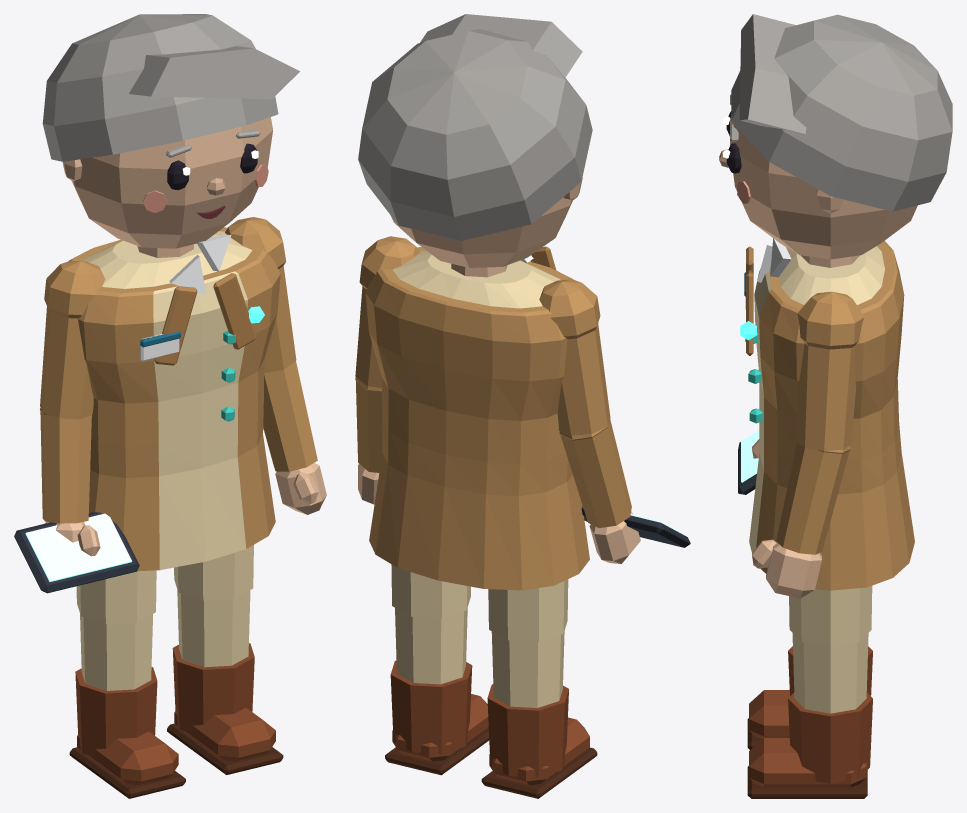
File: man_dun.glb
The picture shows the model from 3 angles, left to right: view 1: azimuth 30°, elevation 25°; view 2: azimuth 150°, elevation 25°; view 3: azimuth 270°, elevation 25°; orthographic projection.
Parts seen in each view (by area): view 1: mantel, haare, kopf, arm_r, schuh_r, schuh_l, bein_r, bein_l, arm_l, gegenstand_terminal, torso, revers (+5 smaller); view 2: mantel, haare, arm_r, bein_r, schuh_r, schuh_l, bein_l, arm_l, torso, kopf, hand_r, gegenstand_terminal (+1 smaller); view 3: haare, mantel, arm_l, kopf, schuh_l, bein_l, torso, hand_l, schuh_r, gegenstand_terminal, gesicht, kragen (+2 smaller).
Part boxes in pixels (x1,y1,x2,y2): mantel: [68, 227, 280, 571]; haare: [42, 14, 299, 161]; kopf: [62, 117, 272, 248]; arm_r: [40, 261, 105, 523]; schuh_r: [69, 667, 185, 798]; schuh_l: [167, 643, 283, 774]; bein_r: [76, 570, 156, 690]; bein_l: [174, 545, 253, 667]; arm_l: [225, 217, 317, 471]; gegenstand_terminal: [14, 512, 139, 593]; torso: [83, 231, 252, 288]; revers: [154, 273, 256, 365]; mantel: [365, 247, 589, 590]; haare: [358, 14, 592, 240]; arm_r: [539, 279, 631, 527]; bein_r: [488, 579, 568, 707]; schuh_r: [481, 684, 597, 798]; schuh_l: [385, 660, 489, 775]; bein_l: [391, 564, 470, 684]; arm_l: [355, 236, 420, 472]; torso: [392, 250, 560, 308]; kopf: [390, 177, 582, 267]; hand_r: [589, 511, 640, 563]; gegenstand_terminal: [581, 505, 690, 547]; haare: [731, 14, 952, 211]; mantel: [749, 240, 914, 590]; arm_l: [776, 291, 864, 554]; kopf: [730, 114, 917, 259]; schuh_l: [747, 692, 872, 798]; bein_l: [789, 586, 872, 713]; torso: [779, 246, 884, 304]; hand_l: [752, 539, 821, 598]; schuh_r: [747, 646, 872, 749]; gegenstand_terminal: [738, 430, 759, 494]; gesicht: [719, 94, 750, 203]; kragen: [757, 238, 791, 282].
Size of the model in its own units: 0.012 by 0.0276 by 0.00798.
